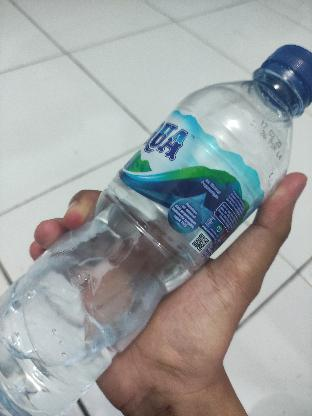Plastic Bottle: (0, 32, 312, 416)
